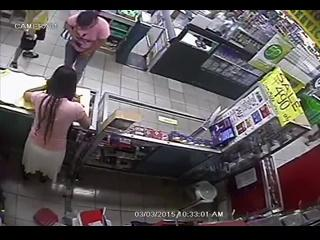Normal: (21, 66, 92, 190), (63, 11, 111, 83), (10, 11, 50, 69)
